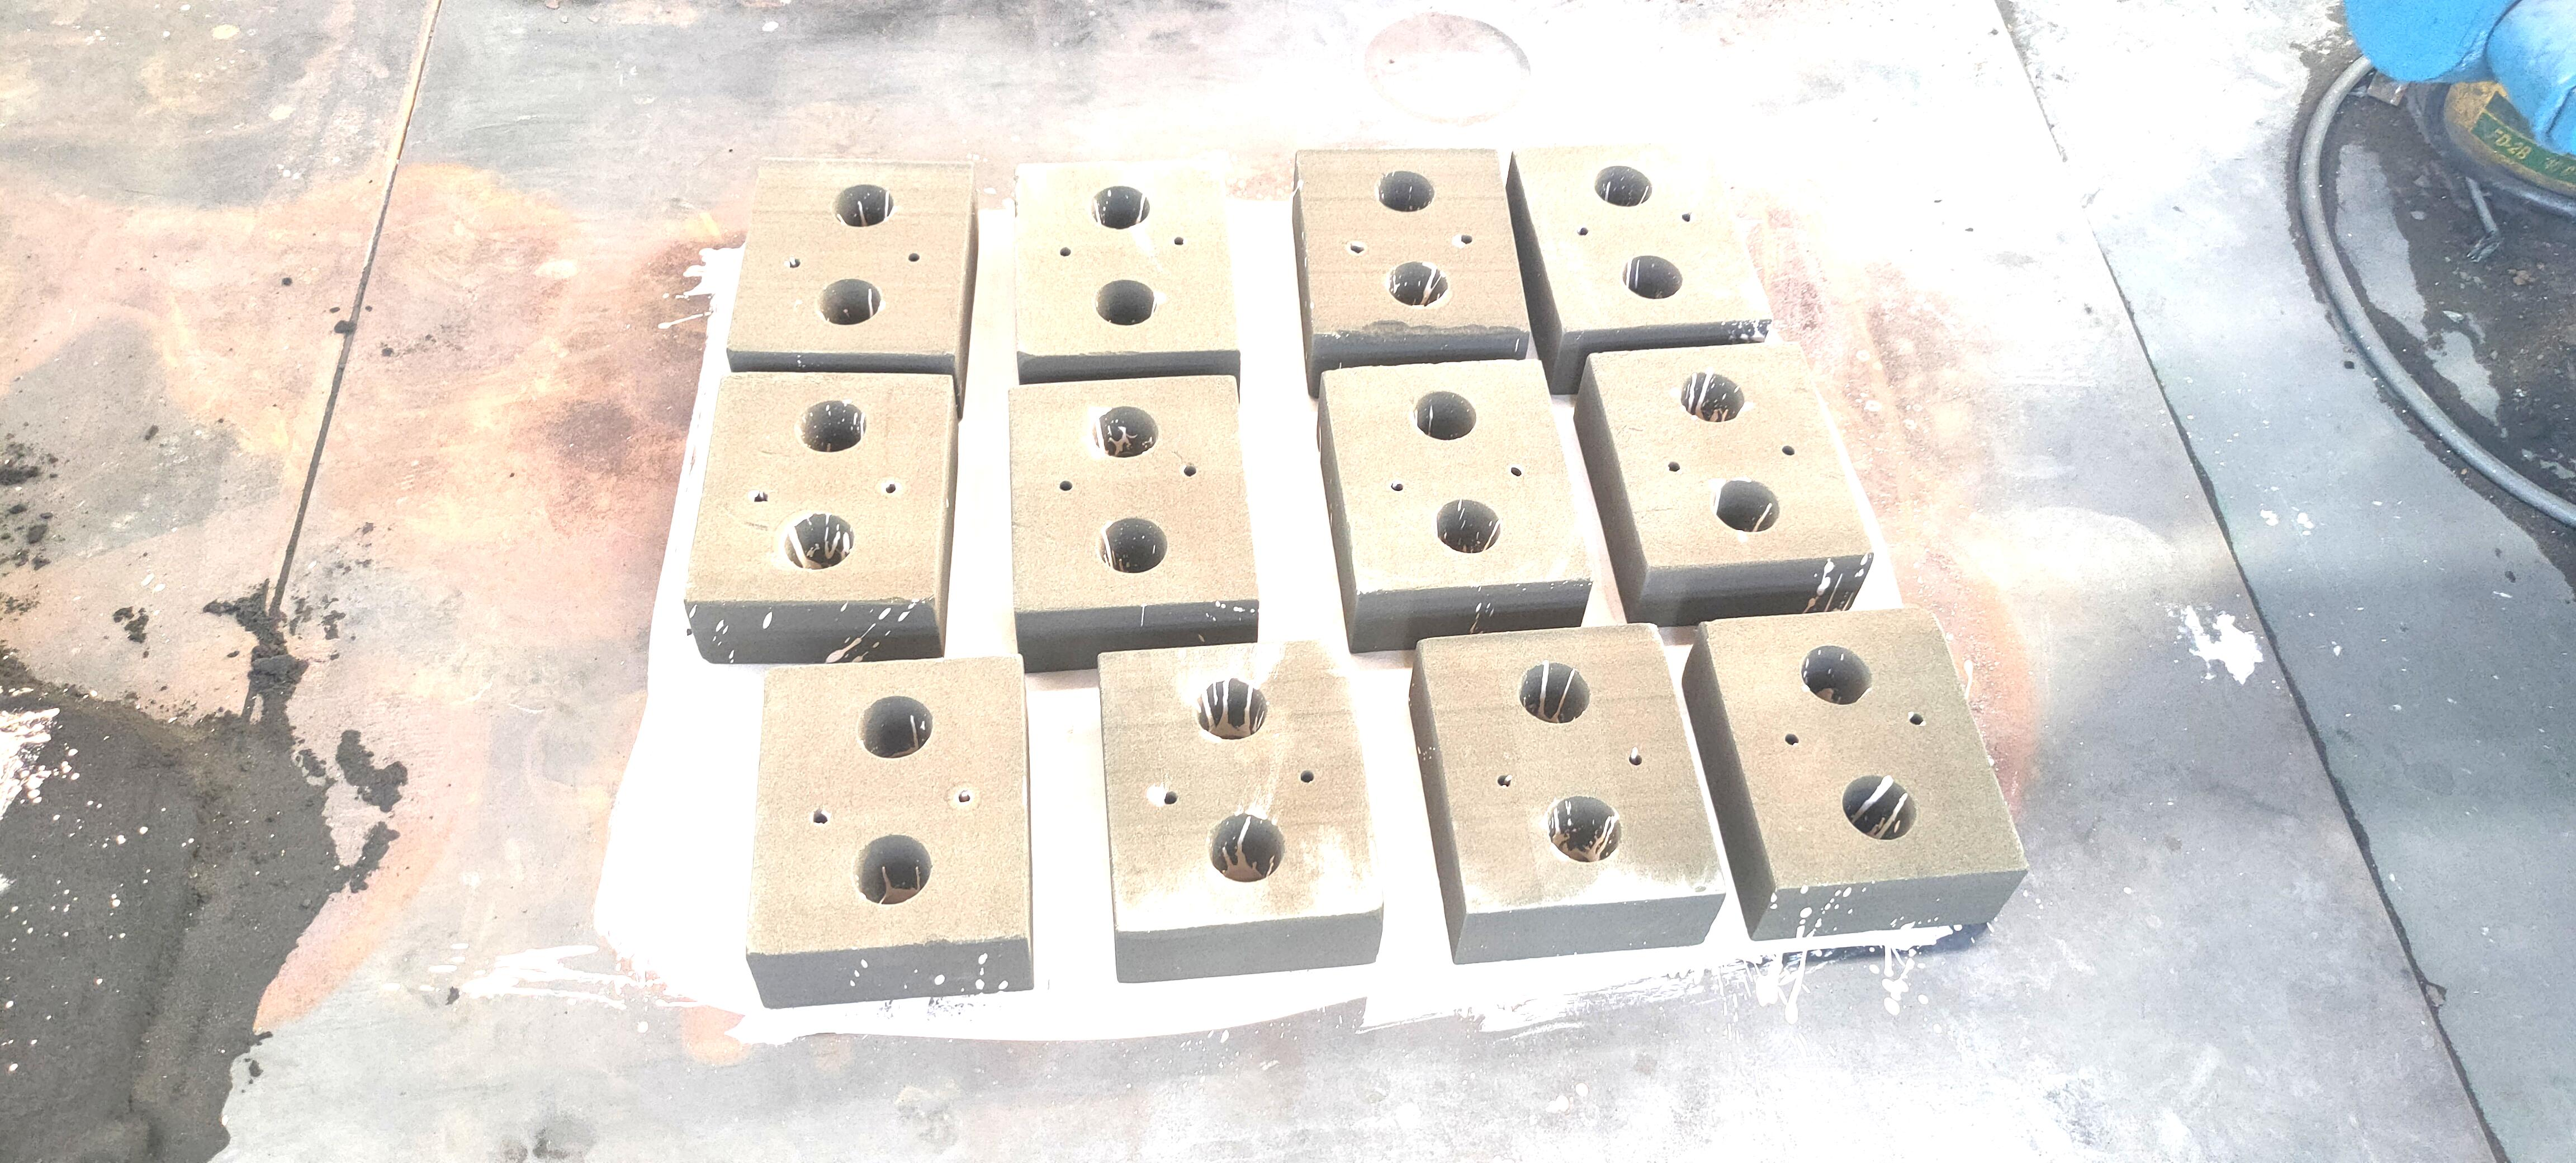pouring hole: (1541, 792, 1625, 866), (853, 834, 933, 907), (1206, 811, 1286, 882), (1840, 774, 1921, 841), (854, 695, 936, 759), (1515, 660, 1592, 724), (1191, 678, 1268, 741), (782, 509, 858, 570), (1799, 644, 1875, 705), (1436, 496, 1503, 555), (1712, 478, 1783, 534), (1097, 516, 1168, 572), (1089, 404, 1158, 457), (1411, 389, 1480, 442), (1679, 370, 1745, 424), (798, 399, 866, 452), (815, 276, 881, 325), (1592, 163, 1656, 210), (1089, 184, 1152, 230), (1094, 279, 1157, 325), (1385, 260, 1447, 306), (1623, 253, 1686, 299), (835, 182, 894, 227), (1377, 169, 1434, 214)
